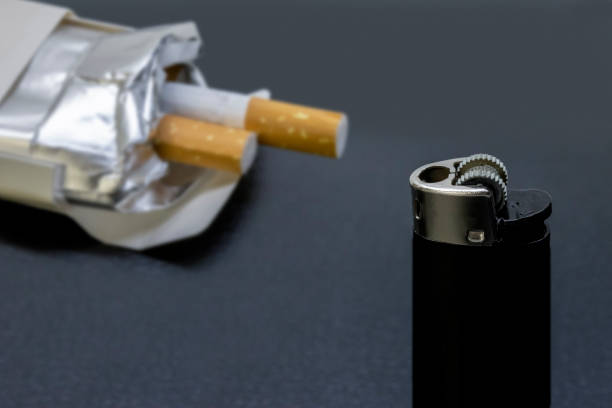cigarette: (0, 0, 273, 252), (163, 82, 351, 161), (154, 112, 259, 173)
